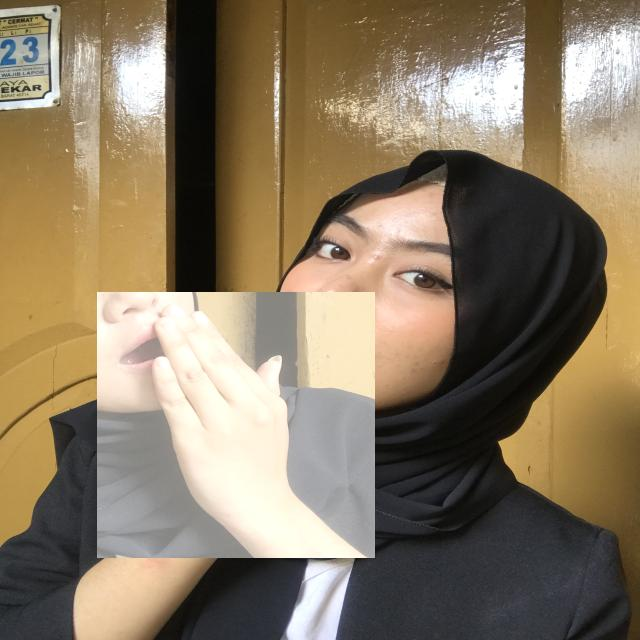ngantuk: (97, 292, 375, 558)
